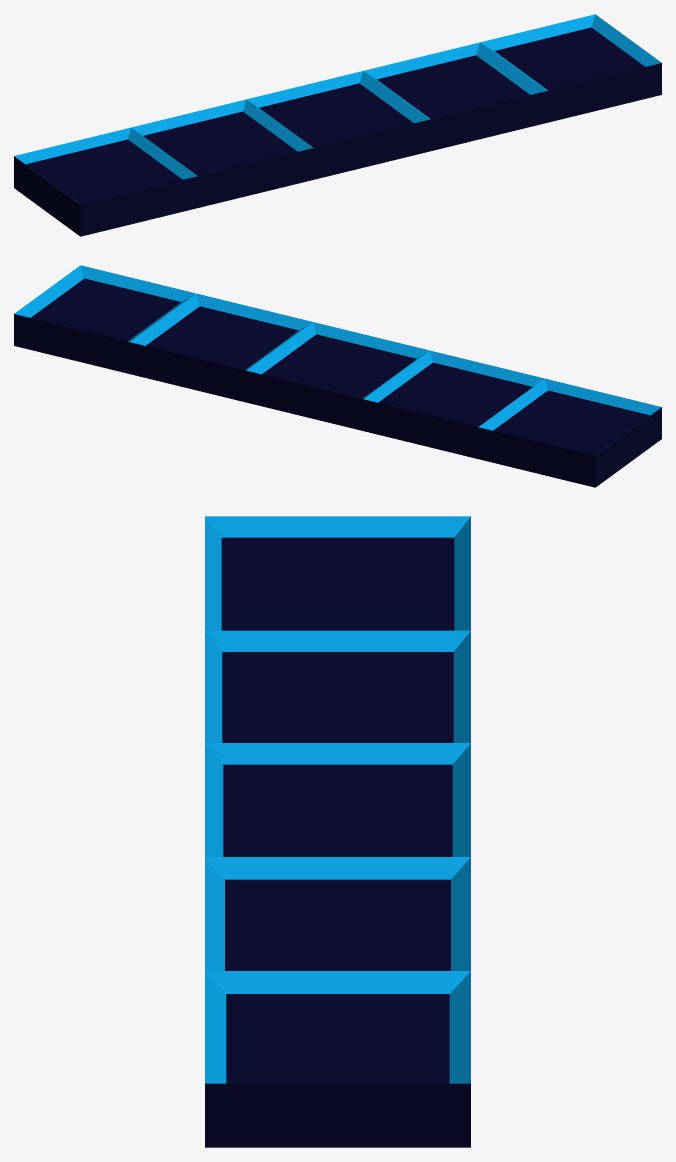
Rendered from plant_sample.fbx.
The picture shows the model from 3 angles, top to bottom: view 1: azimuth 30°, elevation 25°; view 2: azimuth 150°, elevation 25°; view 3: azimuth 270°, elevation 25°; orthographic projection. The views are drawn at different scales.
Parts seen in each view (by area): view 1: Cube.001; view 2: Cube.001; view 3: Cube.001.
Part boxes in pixels (box(x1,y1,x2,y2)): Cube.001: box(14, 14, 661, 236); Cube.001: box(14, 265, 661, 487); Cube.001: box(205, 516, 470, 1147).
Size of the model in its own units: 360 by 18.89 by 71.31.
